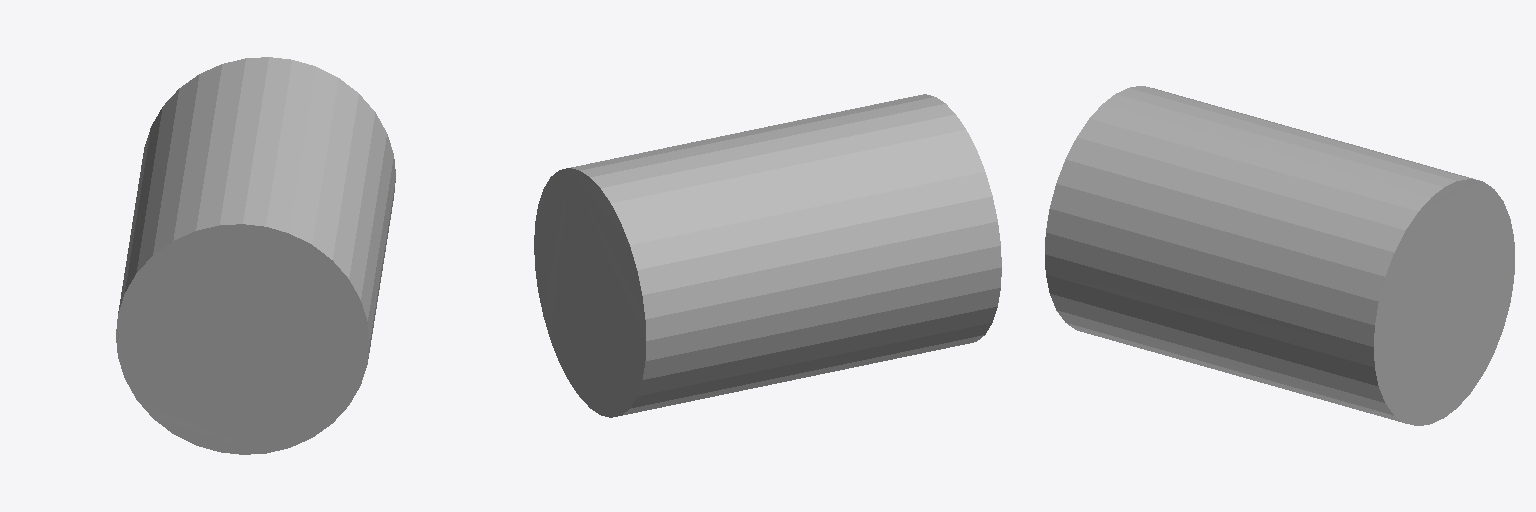
3 renders of one model, left to right at view 1: azimuth 30°, elevation 25°; view 2: azimuth 150°, elevation 25°; view 3: azimuth 270°, elevation 25°, orthographic.
Visible parts, largest first — view 1: NONE_DC_Shell; view 2: NONE_DC_Shell; view 3: NONE_DC_Shell.
Boxes of the visible parts, box(x1,y1,x2,y2) form: NONE_DC_Shell: box(116, 57, 395, 454); NONE_DC_Shell: box(534, 94, 1001, 417); NONE_DC_Shell: box(1045, 86, 1514, 425).
Bounding box in the file's own units: 76.34 × 45 × 83.2.